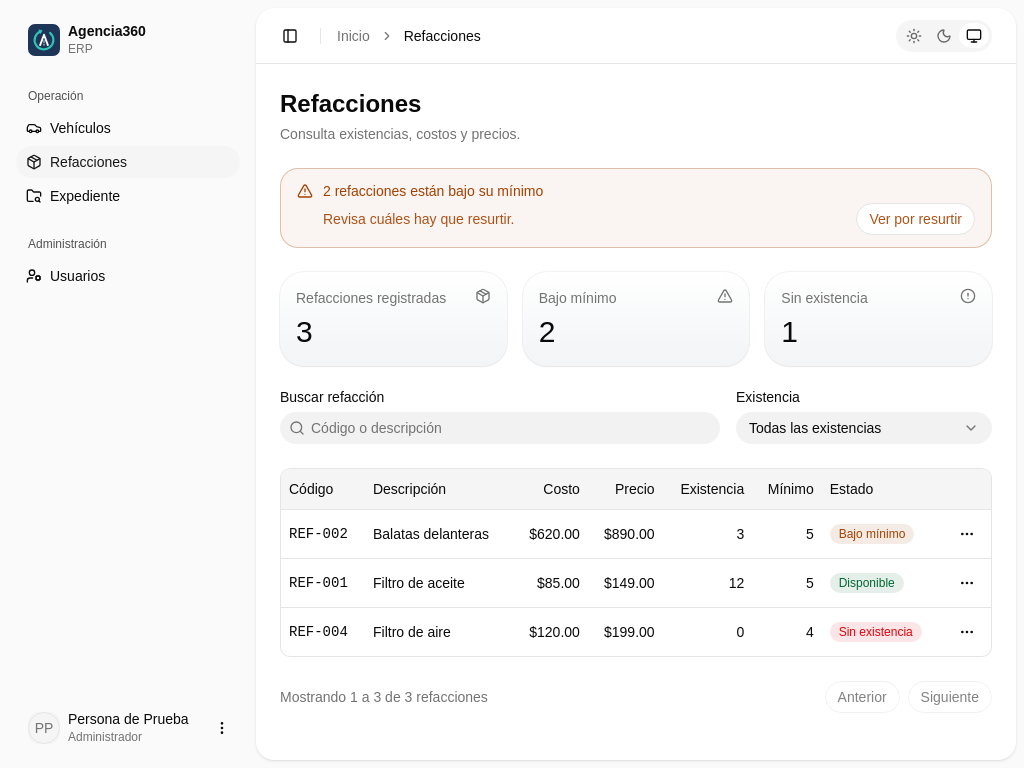
Inventario de refacciones › muestra el historial de recepciones con las dos fechas
Click the button named "Acciones de REF-002": coordinates (967, 534) [951,518,983,550]
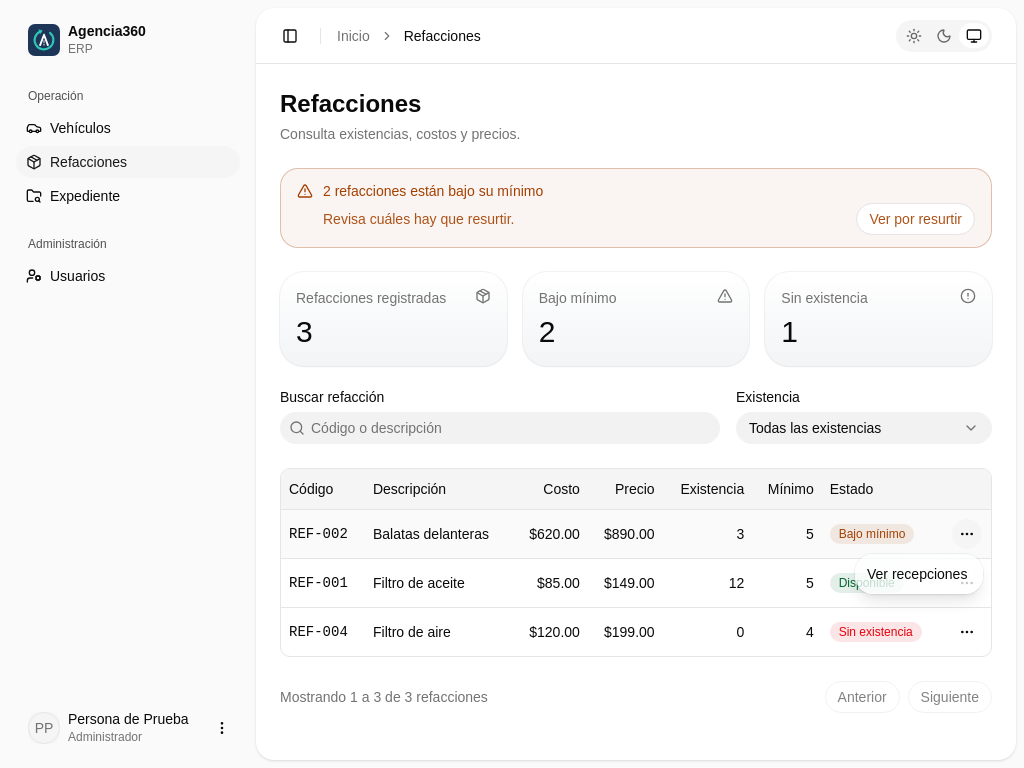
Click the menu item "Ver recepciones": coordinates (917, 574) [867,566,967,582]
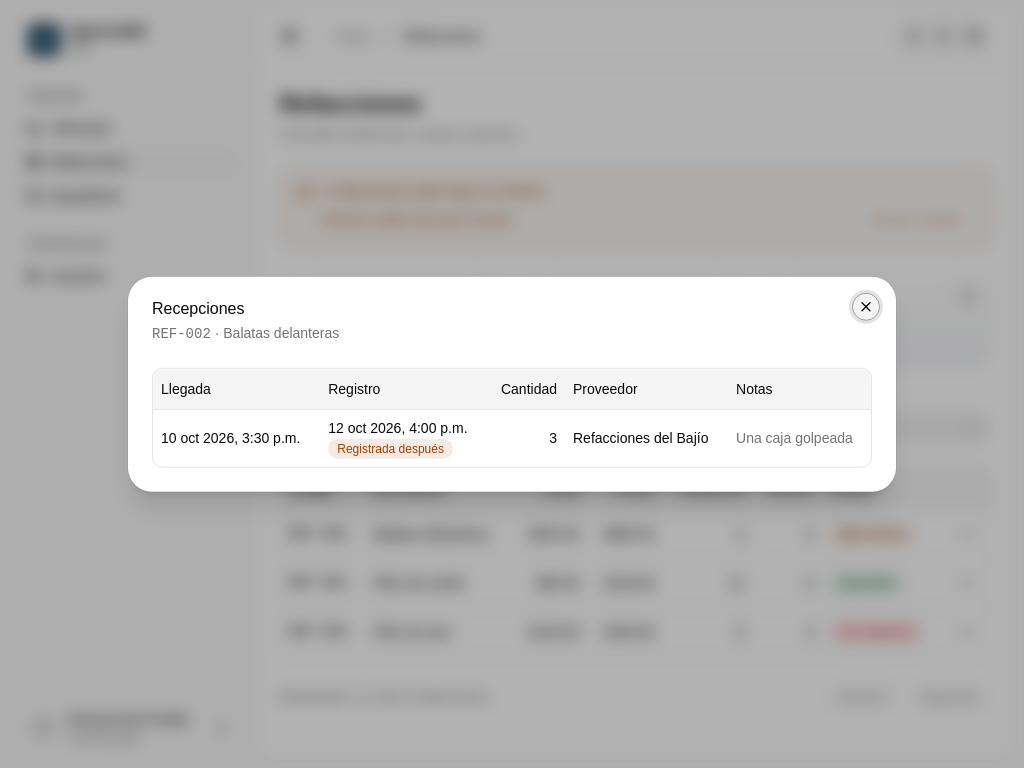
Check: the text "Refacciones del Bajío" is shown, box [565,409,728,466]
Check: the text "Una caja golpeada" is shown, box [728,409,871,466]
Check: the text "Registrada después" is shown, box [328,438,453,458]
